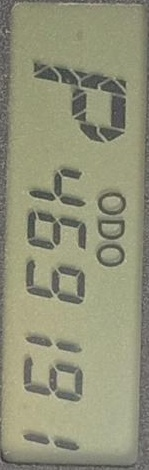1: (23, 334, 82, 354), (21, 432, 80, 452)
4: (27, 166, 86, 208)
6: (27, 210, 87, 252)
9: (25, 259, 85, 307), (22, 356, 83, 402)
X: (31, 61, 128, 145), (95, 242, 126, 267), (97, 190, 126, 215), (97, 218, 126, 239)
